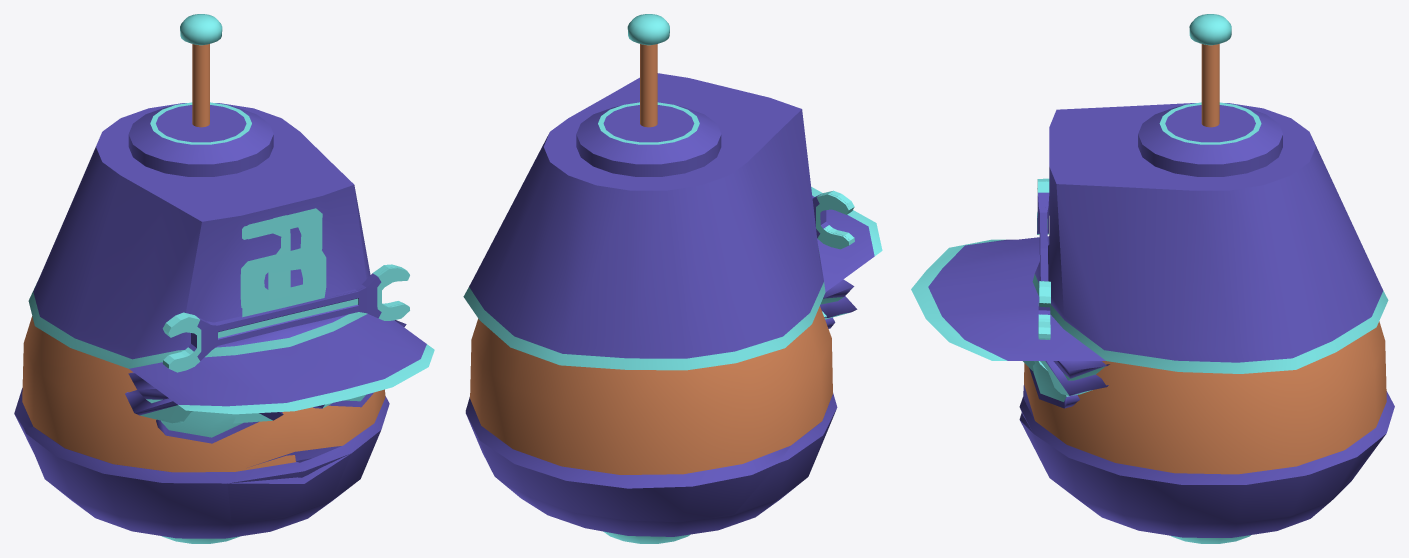
File: LilySquad.fbx
3 renders of one model, left to right at view 1: azimuth 30°, elevation 25°; view 2: azimuth 150°, elevation 25°; view 3: azimuth 270°, elevation 25°, orthographic.
Parts seen in each view (by area): view 1: LilyBot1, LilyBot2, LilyBot3; view 2: LilyBot1, LilyBot2; view 3: LilyBot1, LilyBot2, LilyBot3.
Part boxes in pixels (x1,y1,x2,y2): LilyBot1: (24,14,434,543); LilyBot2: (14,208,407,472); LilyBot3: (156,210,373,524); LilyBot1: (463,14,882,543); LilyBot2: (465,193,857,522); LilyBot1: (911,14,1388,543); LilyBot2: (1023,178,1394,514); LilyBot3: (1019,361,1080,476).
Size of the model in its own units: 112 by 169 by 147.
